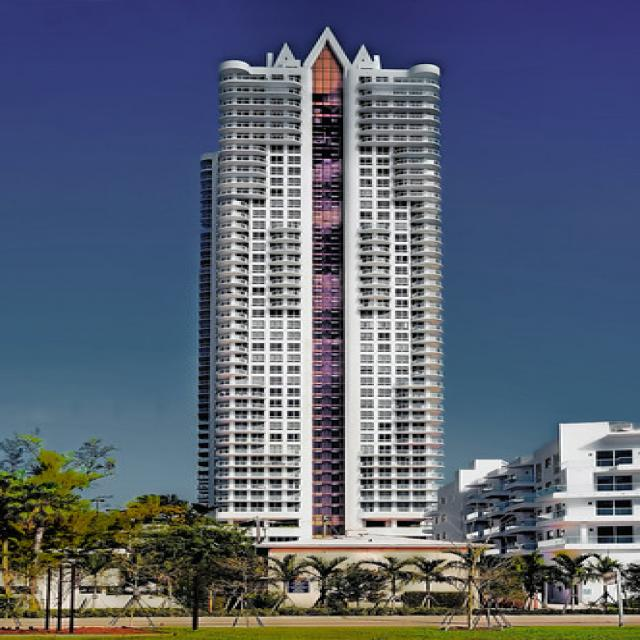Normal_building: (186, 22, 450, 600)
